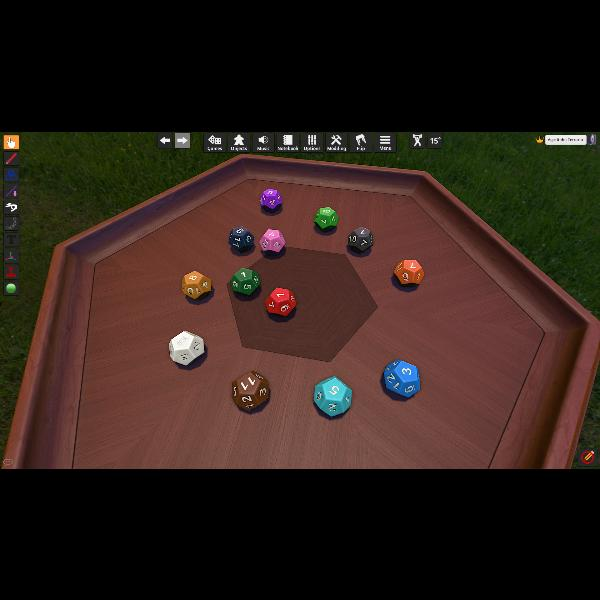d12: (232, 371, 270, 411), (312, 375, 350, 415), (383, 360, 419, 397), (170, 329, 206, 363), (264, 286, 296, 316), (182, 270, 212, 300), (230, 268, 260, 296), (394, 258, 422, 284), (229, 225, 255, 252), (347, 227, 373, 253), (260, 228, 284, 254), (314, 207, 336, 231), (260, 187, 282, 209)
